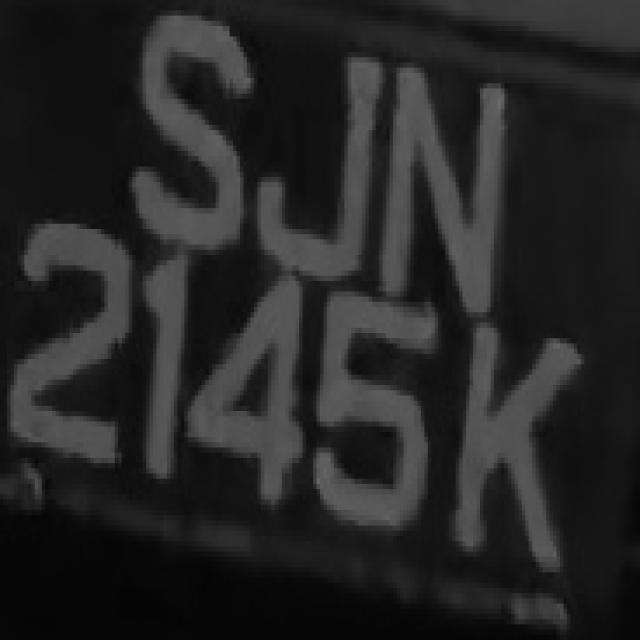1: (132, 240, 198, 500)
2: (11, 188, 132, 494)
4: (198, 244, 317, 526)
5: (313, 276, 445, 541)
J: (264, 26, 376, 291)
K: (452, 286, 578, 583)
N: (379, 26, 511, 328)
S: (132, 11, 258, 260)
